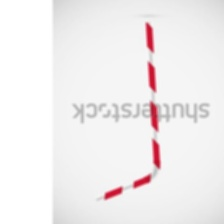drinking_straw: (90, 15, 166, 209)
